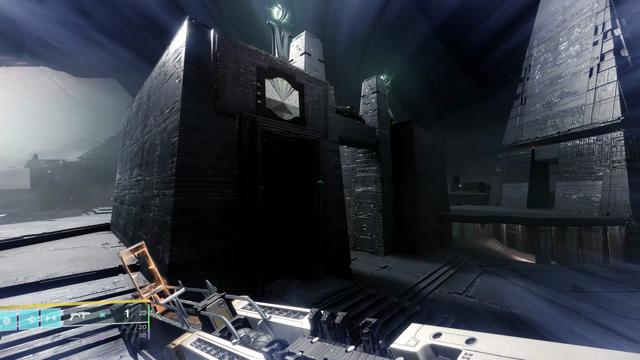commune: (265, 78, 299, 120)
